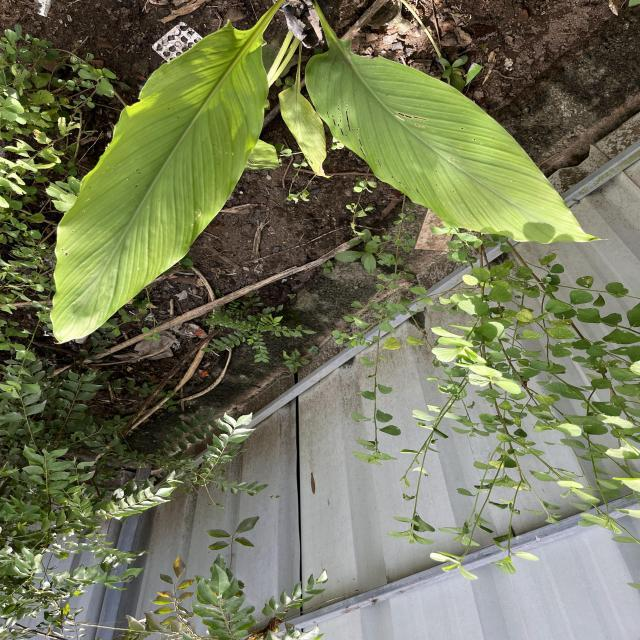Curcuma longa: (48, 18, 270, 346), (304, 35, 612, 246)
